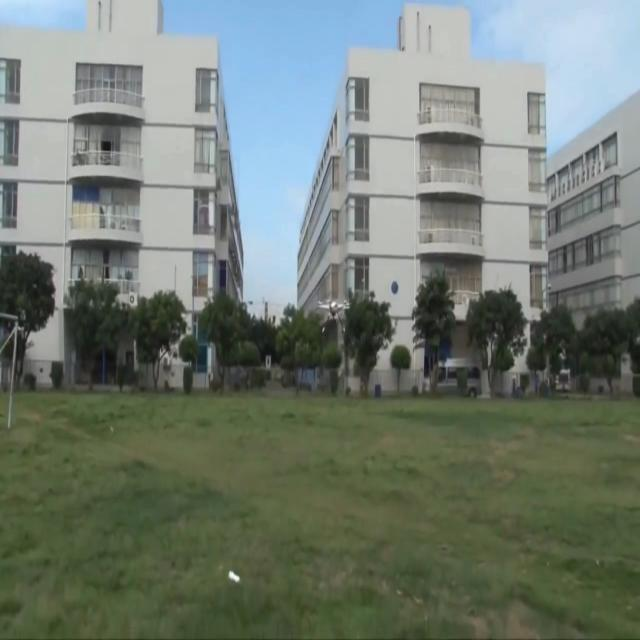drone: (317, 290, 350, 336)
